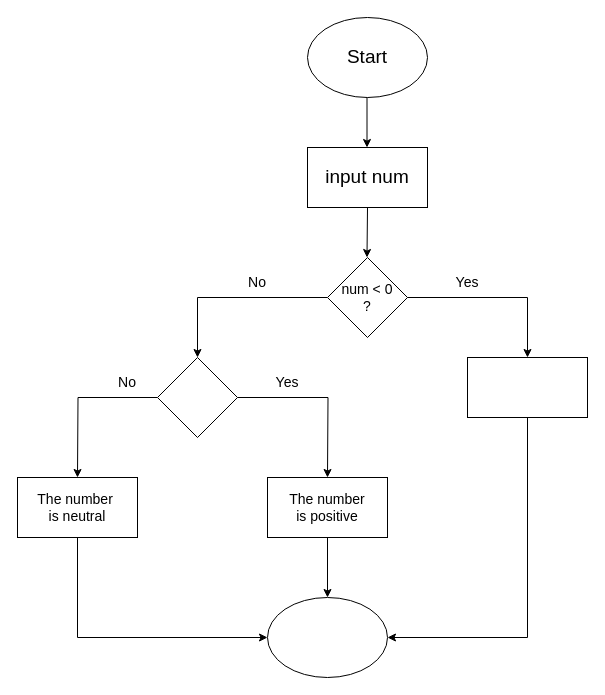
Image size: 605x695. Some labels were removed from this diagram. The shapes that lost their labels are listed below. From the top down, each one's box as (x1, y1, x2, y2) in pixels, then its label:
(156, 356, 238, 438): num>0 ?
(466, 356, 588, 418): The number is negative
(266, 596, 388, 678): End
